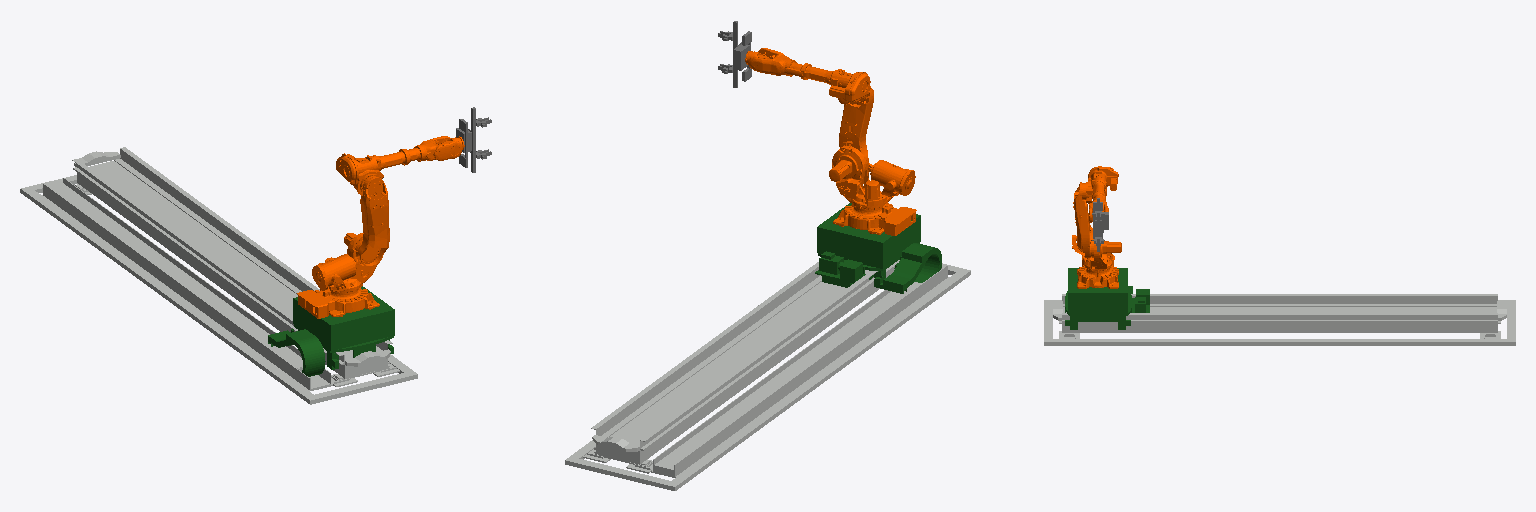
The robot description file, URDF, robot "abb_irb6600_track":
<?xml version="1.0" ?>
<!-- =================================================================================== -->
<!-- |    This document was autogenerated by xacro from irb6600_with_linear_track_workspace.xacro | -->
<!-- |    EDITING THIS FILE BY HAND IS NOT RECOMMENDED                                 | -->
<!-- =================================================================================== -->
<robot name="abb_irb6600_track" xmlns:xacro="http://ros.org/wiki/xacro">
  <!-- link list -->
  <link name="robot_base_link">
    <collision name="collision">
      <geometry>
        <mesh filename="../meshes/irb6640/collision/base_link.stl"/>
      </geometry>
      <material name="yellow">
        <color rgba="0 1 1 1"/>
      </material>
    </collision>
    <visual name="visual">
      <geometry>
        <mesh filename="../meshes/irb6640/visual/base_link.stl"/>
      </geometry>
      <material name="orange">
        <color rgba="1 0.43 0 1"/>
      </material>
    </visual>
  </link>
  <link name="robot_link_1">
    <collision name="collision">
      <geometry>
        <mesh filename="../meshes/irb6640/collision/link_1.stl"/>
      </geometry>
      <material name="yellow"/>
    </collision>
    <visual name="visual">
      <geometry>
        <mesh filename="../meshes/irb6640/visual/link_1.stl"/>
      </geometry>
      <material name="orange"/>
    </visual>
  </link>
  <link name="robot_link_2">
    <collision name="collision">
      <geometry>
        <mesh filename="../meshes/irb6640/collision/link_2.stl"/>
      </geometry>
      <material name="yellow"/>
    </collision>
    <visual name="visual">
      <geometry>
        <mesh filename="../meshes/irb6640/visual/link_2.stl"/>
      </geometry>
      <material name="orange"/>
    </visual>
  </link>
  <link name="robot_link_3">
    <collision name="collision">
      <geometry>
        <mesh filename="../meshes/irb6640/collision/link_3.stl"/>
      </geometry>
      <material name="yellow"/>
    </collision>
    <visual name="visual">
      <geometry>
        <mesh filename="../meshes/irb6640/visual/link_3.stl"/>
      </geometry>
      <material name="orange"/>
    </visual>
  </link>
  <link name="robot_link_4">
    <collision name="collision">
      <geometry>
        <mesh filename="../meshes/irb6640/collision/link_4.stl"/>
      </geometry>
      <material name="yellow"/>
    </collision>
    <visual name="visual">
      <geometry>
        <mesh filename="../meshes/irb6640/visual/link_4.stl"/>
      </geometry>
      <material name="orange"/>
    </visual>
  </link>
  <link name="robot_link_5">
    <collision name="collision">
      <geometry>
        <mesh filename="../meshes/irb6640/collision/link_5.stl"/>
      </geometry>
      <material name="yellow"/>
    </collision>
    <visual name="visual">
      <geometry>
        <mesh filename="../meshes/irb6640/visual/link_5.stl"/>
      </geometry>
      <material name="orange"/>
    </visual>
  </link>
  <link name="robot_link_6">
    <collision name="collision">
      <geometry>
        <mesh filename="../meshes/irb6640/collision/link_6.stl"/>
      </geometry>
      <material name="yellow"/>
    </collision>
    <visual name="visual">
      <geometry>
        <mesh filename="../meshes/irb6640/visual/link_6.stl"/>
      </geometry>
      <material name="orange"/>
    </visual>
  </link>
  <link name="robot_tool0"/>
  <!--Cylinder and piston -->
  <link name="robot_link_cylinder">
    <collision name="collision">
      <geometry>
        <mesh filename="../meshes/irb6640/collision/cylinder.stl"/>
      </geometry>
      <material name="yellow"/>
    </collision>
    <visual name="visual">
      <geometry>
        <mesh filename="../meshes/irb6640/visual/cylinder.stl"/>
      </geometry>
      <material name="orange"/>
    </visual>
  </link>
  <link name="robot_link_piston">
    <collision name="collision">
      <geometry>
        <mesh filename="../meshes/irb6640/collision/piston.stl"/>
      </geometry>
      <material name="yellow"/>
    </collision>
    <visual name="visual">
      <geometry>
        <mesh filename="../meshes/irb6640/visual/piston.stl"/>
      </geometry>
      <material name="orange"/>
    </visual>
  </link>
  <!-- end of link list -->
  <!-- joint list -->
  <joint name="robot_joint_1" type="revolute">
    <origin rpy="0 0 0" xyz="0 0 0.227"/>
    <axis xyz="0 0 1"/>
    <parent link="robot_base_link"/>
    <child link="robot_link_1"/>
    <limit effort="0" lower="-2.967" upper="2.967" velocity="1.7453"/>
  </joint>
  <joint name="robot_joint_2" type="revolute">
    <origin rpy="0 0 0" xyz="0.322 0.03 0.551"/>
    <axis xyz="0 1 0"/>
    <parent link="robot_link_1"/>
    <child link="robot_link_2"/>
    <limit effort="0" lower="-1.134" upper="1.4855" velocity="1.5707"/>
  </joint>
  <joint name="robot_joint_3" type="revolute">
    <origin rpy="0 0 0" xyz="0 -0.2 1.07"/>
    <axis xyz="0 1 0"/>
    <parent link="robot_link_2"/>
    <child link="robot_link_3"/>
    <limit effort="0" lower="-3.142" upper="1.222" velocity="1.5707"/>
  </joint>
  <joint name="robot_joint_4" type="revolute">
    <origin rpy="0 0 0" xyz="-0.275 0.181 0.2"/>
    <axis xyz="1 0 0"/>
    <parent link="robot_link_3"/>
    <child link="robot_link_4"/>
    <limit effort="0" lower="-5.236" upper="5.236" velocity="2.9671"/>
  </joint>
  <joint name="robot_joint_5" type="revolute">
    <origin rpy="0 0 0" xyz="1.67 0 0 "/>
    <axis xyz="0 1 0"/>
    <parent link="robot_link_4"/>
    <child link="robot_link_5"/>
    <limit effort="0" lower="-2.094" upper="2.094" velocity="2.4435"/>
  </joint>
  <joint name="robot_joint_6" type="revolute">
    <origin rpy="0 0 0" xyz="0.153 0 0 "/>
    <axis xyz="1 0 0"/>
    <parent link="robot_link_5"/>
    <child link="robot_link_6"/>
    <limit effort="0" lower="-6.283" upper="6.283" velocity="3.3161"/>
  </joint>
  <joint name="robot_joint_6-tool0" type="fixed">
    <parent link="robot_link_6"/>
    <child link="robot_tool0"/>
    <origin rpy="0 1.57079632679 0" xyz=".055 0 0"/>
  </joint>
  <joint name="robot_joint_cylinder" type="fixed">
    <origin rpy="0 -0.170 0" xyz="-0.365 -0.1895 0.405"/>
    <axis xyz="0 1 0"/>
    <parent link="robot_link_1"/>
    <child link="robot_link_cylinder"/>
    <limit effort="0" lower="-2.96705973" upper="2.96705973" velocity="0"/>
  </joint>
  <joint name="robot_joint_piston" type="fixed">
    <origin rpy="0 0 0" xyz="0.475 0 0"/>
    <axis xyz="1 0 0"/>
    <parent link="robot_link_cylinder"/>
    <child link="robot_link_piston"/>
    <limit effort="0" lower="0" upper="0.6" velocity="0"/>
  </joint>
  <!-- end of joint list -->
  <!-- ROS base_link to ABB World Coordinates transform -->
  <link name="robot_base"/>
  <joint name="robot_base_link-base" type="fixed">
    <origin rpy="0 0 0" xyz="0 0 0"/>
    <parent link="robot_base_link"/>
    <child link="robot_base"/>
  </joint>

    <!--end effector-->
   <link name="eef_base_link">
     <visual>
       <origin rpy="0 0 0" xyz="0.0 0.0 0.0"/>
       <geometry>
         <mesh filename="../meshes/eth_rfl_gripper/visual/eth_rfl_gripper_visual.stl" scale=".001 .001 .001"/>
       </geometry>
       <material name="grey">
         <color rgba="0.5 0.5 0.5 1.0"/>
       </material>
     </visual>
     <collision>
       <origin rpy="0 0 0" xyz="0.0 0.0 0.0"/>
       <geometry>
         <mesh filename="../meshes/eth_rfl_gripper/collision/eth_rfl_gripper_collision.stl" scale=".001 .001 .001"/>
       </geometry>
       <material name="red">
         <color rgba="1 0 0 1"/>
       </material>
     </collision>
   </link>

  <joint name="eef_base_to_tcp" type="fixed">
    <origin rpy="0 0 0" xyz="0.0 0.0 0.475"/>
    <parent link="eef_base_link"/>
    <child link="eef_tcp_frame"/>
  </joint>

   <link name="eef_tcp_frame"/>

<!-- link list -->
  <!--<link name="eef_base_link">-->
    <!--<visual>-->
      <!--<origin rpy="0 0 0" xyz="8.8e-05 0.000769 -0.002121"/>-->
      <!--<geometry>-->
        <!--<mesh filename="package://asw_end_effector/meshes/visual/asw_hotend_end_effector.stl" scale=".001 .001 .001"/>-->
      <!--</geometry>-->
      <!--<material name="grey">-->
        <!--<color rgba="0.5 0.5 0.5 1.0"/>-->
      <!--</material>-->
    <!--</visual>-->
    <!--<collision>-->
      <!--<origin rpy="0 0 0" xyz="8.8e-05 0.000769 -0.002121"/>-->
      <!--<geometry>-->
        <!--<mesh filename="package://asw_end_effector/meshes/collision/asw_hotend_end_effector_shrinked_tip-4mm.stl" scale=".001 .001 .001"/>-->
      <!--</geometry>-->
      <!--<material name="red">-->
        <!--<color rgba="1 0 0 1"/>-->
      <!--</material>-->
    <!--</collision>-->
  <!--</link>-->
  <!--<link name="eef_tcp_frame"/>-->
  <!--&lt;!&ndash; end of link list &ndash;&gt;-->
  <!--&lt;!&ndash; joint list &ndash;&gt;-->
  <!--<joint name="eef_base_to_tcp" type="fixed">-->
    <!--<origin rpy="0.0 1.57079632679 0.0" xyz="0.150539 0.001052 0.119157"/>-->
    <!--<parent link="eef_base_link"/>-->
    <!--<child link="eef_tcp_frame"/>-->
  <!--</joint>-->
  <!-- end of joint list -->

  <!--TODO: linear axis-->
  <link name="linear_axis_base_link">
    <visual>
      <geometry>
        <mesh filename="../meshes/linear_track/visual/ucla_linear_axis_visual_rail.stl" scale=".001 .001 .001"/>
      </geometry>
      <material name="">
        <color rgba="0.772549019608 0.780392156863 0.76862745098 1.0"/>
      </material>
    </visual>
    <collision>
      <geometry>
        <mesh filename="../meshes/linear_track/collision/ucla_linear_axis_collision_rail.stl" scale=".001 .001 .001"/>
      </geometry>
      <material name="">
        <color rgba="0.772549019608 0.780392156863 0.76862745098 1.0"/>
      </material>
    </collision>
  </link>
  <link name="linear_axis_zero"/>
  <link name="linear_axis_carriage">
    <visual>
      <geometry>
        <mesh filename="../meshes/linear_track/visual/ucla_linear_axis_visual_carriage.stl" scale=".001 .001 .001"/>
      </geometry>
      <material name="">
        <color rgba="0.15 0.415 0.165 1.0"/>
      </material>
    </visual>
    <collision>
      <geometry>
        <mesh filename="../meshes/linear_track/collision/ucla_linear_axis_collision_carriage.stl" scale=".001 .001 .001"/>
      </geometry>
      <material name="">
        <color rgba="0.15 0.415 0.165 1.0"/>
      </material>
    </collision>
  </link>
  <link name="linear_axis_robot_mount"/>
  <!--	End of link list-->
  <!-- Joint list -->
  <joint name="linear_axis_joint_1" type="fixed">
    <parent link="linear_axis_base_link"/>
    <child link="linear_axis_zero"/>
    <origin rpy="0 0 0" xyz="-3.153 -0.212 0.470"/>
  </joint>
  <joint name="linear_axis_actuation_joint" type="prismatic">
    <parent link="linear_axis_zero"/>
    <child link="linear_axis_carriage"/>
    <origin rpy="0 0 0" xyz="0 0 0"/>
    <axis xyz="1 0 0"/>
    <limit effort="1" lower="0" upper="5.4" velocity="1"/>
  </joint>
  <joint name="linear_axis_joint_3" type="fixed">
    <parent link="linear_axis_carriage"/>
    <child link="linear_axis_robot_mount"/>
    <origin rpy="0 0 0" xyz="0 0 0.470"/>
  </joint>
  <!-- End of joint list -->

  <!--base_link-->
  <!--Link list-->
  <link name="base_link"/>
  <!--bind the rail to word_frame, can be disabled if using modile platform-->
  <joint name="linear_axis_to_base_link" type="fixed">
    <origin rpy="0 0 1.57079632679" xyz="0 0 0"/>
    <parent link="base_link"/>
    <!--<child link="robot_base_link"/>-->
    <child link="linear_axis_base_link"/>
  </joint>

  <joint name="robot_to_linear_axis" type="fixed">
    <origin rpy="0 0 -1.57079632679" xyz="0 0 0"/>
    <parent link="linear_axis_robot_mount"/>
    <child link="robot_base_link"/>
  </joint>

   <joint name="ee_to_robot" type="fixed">
     <parent link="robot_tool0"/>
     <child link="eef_base_link"/>
     <origin rpy="0 0 0" xyz="0 0 0"/>
   </joint>

  <!-- End of joint list -->
</robot>

--- Render facts (derived) ---
3 views of the same robot in one strip: view 1: azimuth 30°, elevation 25°; view 2: azimuth 150°, elevation 25°; view 3: azimuth 270°, elevation 25° (orthographic).
Model abb_irb6600_track with 18 links and 17 joints (6 revolute, 1 prismatic, 10 fixed), rooted at base_link, posed all joints at 0.
Links seen in each view (by area): view 1: linear_axis_base_link, linear_axis_carriage, robot_link_2, robot_base_link, robot_link_4, robot_link_1, eef_base_link, robot_link_3, robot_link_cylinder; view 2: linear_axis_base_link, linear_axis_carriage, robot_link_1, robot_base_link, robot_link_4, robot_link_2, robot_link_3, eef_base_link, robot_link_cylinder; view 3: linear_axis_base_link, linear_axis_carriage, robot_link_2, robot_link_1, robot_base_link, robot_link_3, eef_base_link.
Link boxes in pixels (x1,y1,x2,y2): linear_axis_base_link: [20, 147, 417, 404]; linear_axis_carriage: [268, 286, 394, 376]; robot_link_2: [354, 174, 389, 266]; robot_base_link: [297, 287, 379, 318]; robot_link_4: [344, 136, 462, 176]; robot_link_1: [318, 233, 377, 294]; eef_base_link: [456, 107, 491, 172]; robot_link_3: [336, 153, 383, 195]; robot_link_cylinder: [312, 254, 356, 290]; linear_axis_base_link: [565, 260, 970, 490]; linear_axis_carriage: [815, 203, 941, 293]; robot_link_1: [829, 145, 908, 211]; robot_base_link: [833, 202, 916, 235]; robot_link_4: [747, 48, 867, 91]; robot_link_2: [839, 86, 873, 171]; robot_link_3: [829, 69, 870, 104]; eef_base_link: [718, 21, 751, 87]; robot_link_cylinder: [870, 160, 915, 195]; linear_axis_base_link: [1044, 294, 1515, 345]; linear_axis_carriage: [1065, 268, 1149, 329]; robot_link_2: [1073, 182, 1093, 257]; robot_link_1: [1072, 235, 1121, 276]; robot_base_link: [1077, 254, 1118, 288]; robot_link_3: [1086, 166, 1118, 203]; eef_base_link: [1092, 198, 1108, 251].
Bounding box of the posed robot: 3.47 × 8.17 × 3.49 m (x, y, z).
Meshes: 12 distinct files referenced, 12 mesh visuals loaded (12 binary STL).
